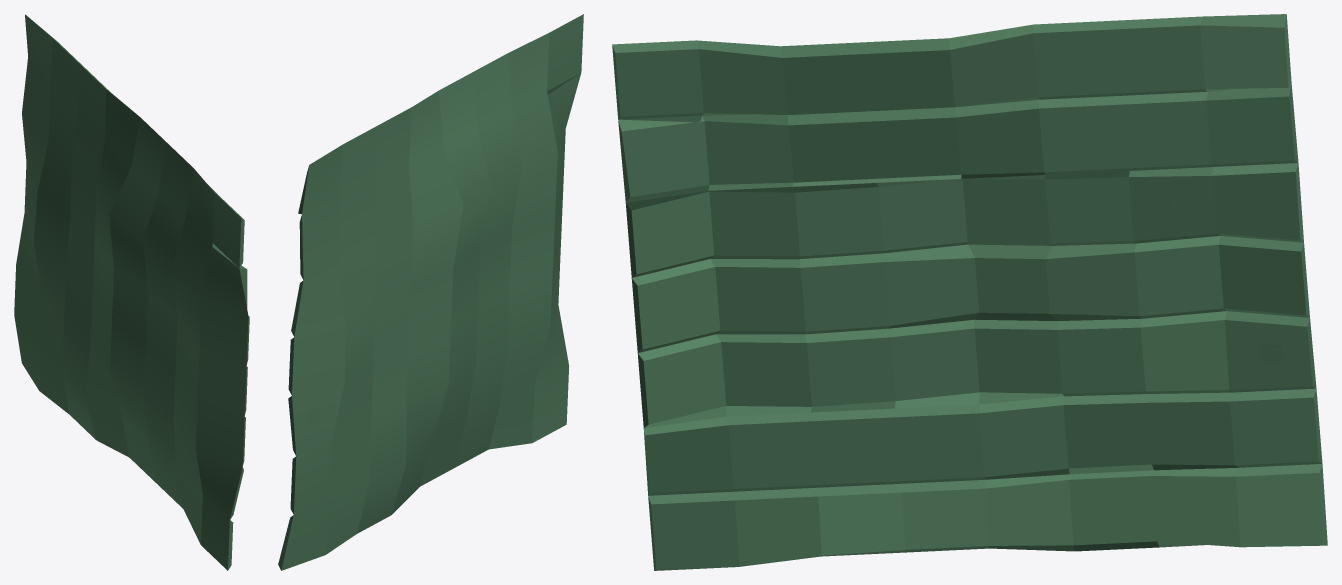
Rendered from dveri_broken_new.fbx.
3 renders of one model, left to right at view 1: azimuth 30°, elevation 25°; view 2: azimuth 150°, elevation 25°; view 3: azimuth 270°, elevation 25°, orthographic. The views are drawn at different scales.
Parts seen in each view (by area): view 1: broken; view 2: broken; view 3: broken.
Part boxes in pixels (x1,y1,x2,y2): broken: (14,14,249,570); broken: (278,14,583,570); broken: (612,14,1327,570).
Bounding box in the file's own units: 2.32 × 20.1 × 22.95.
